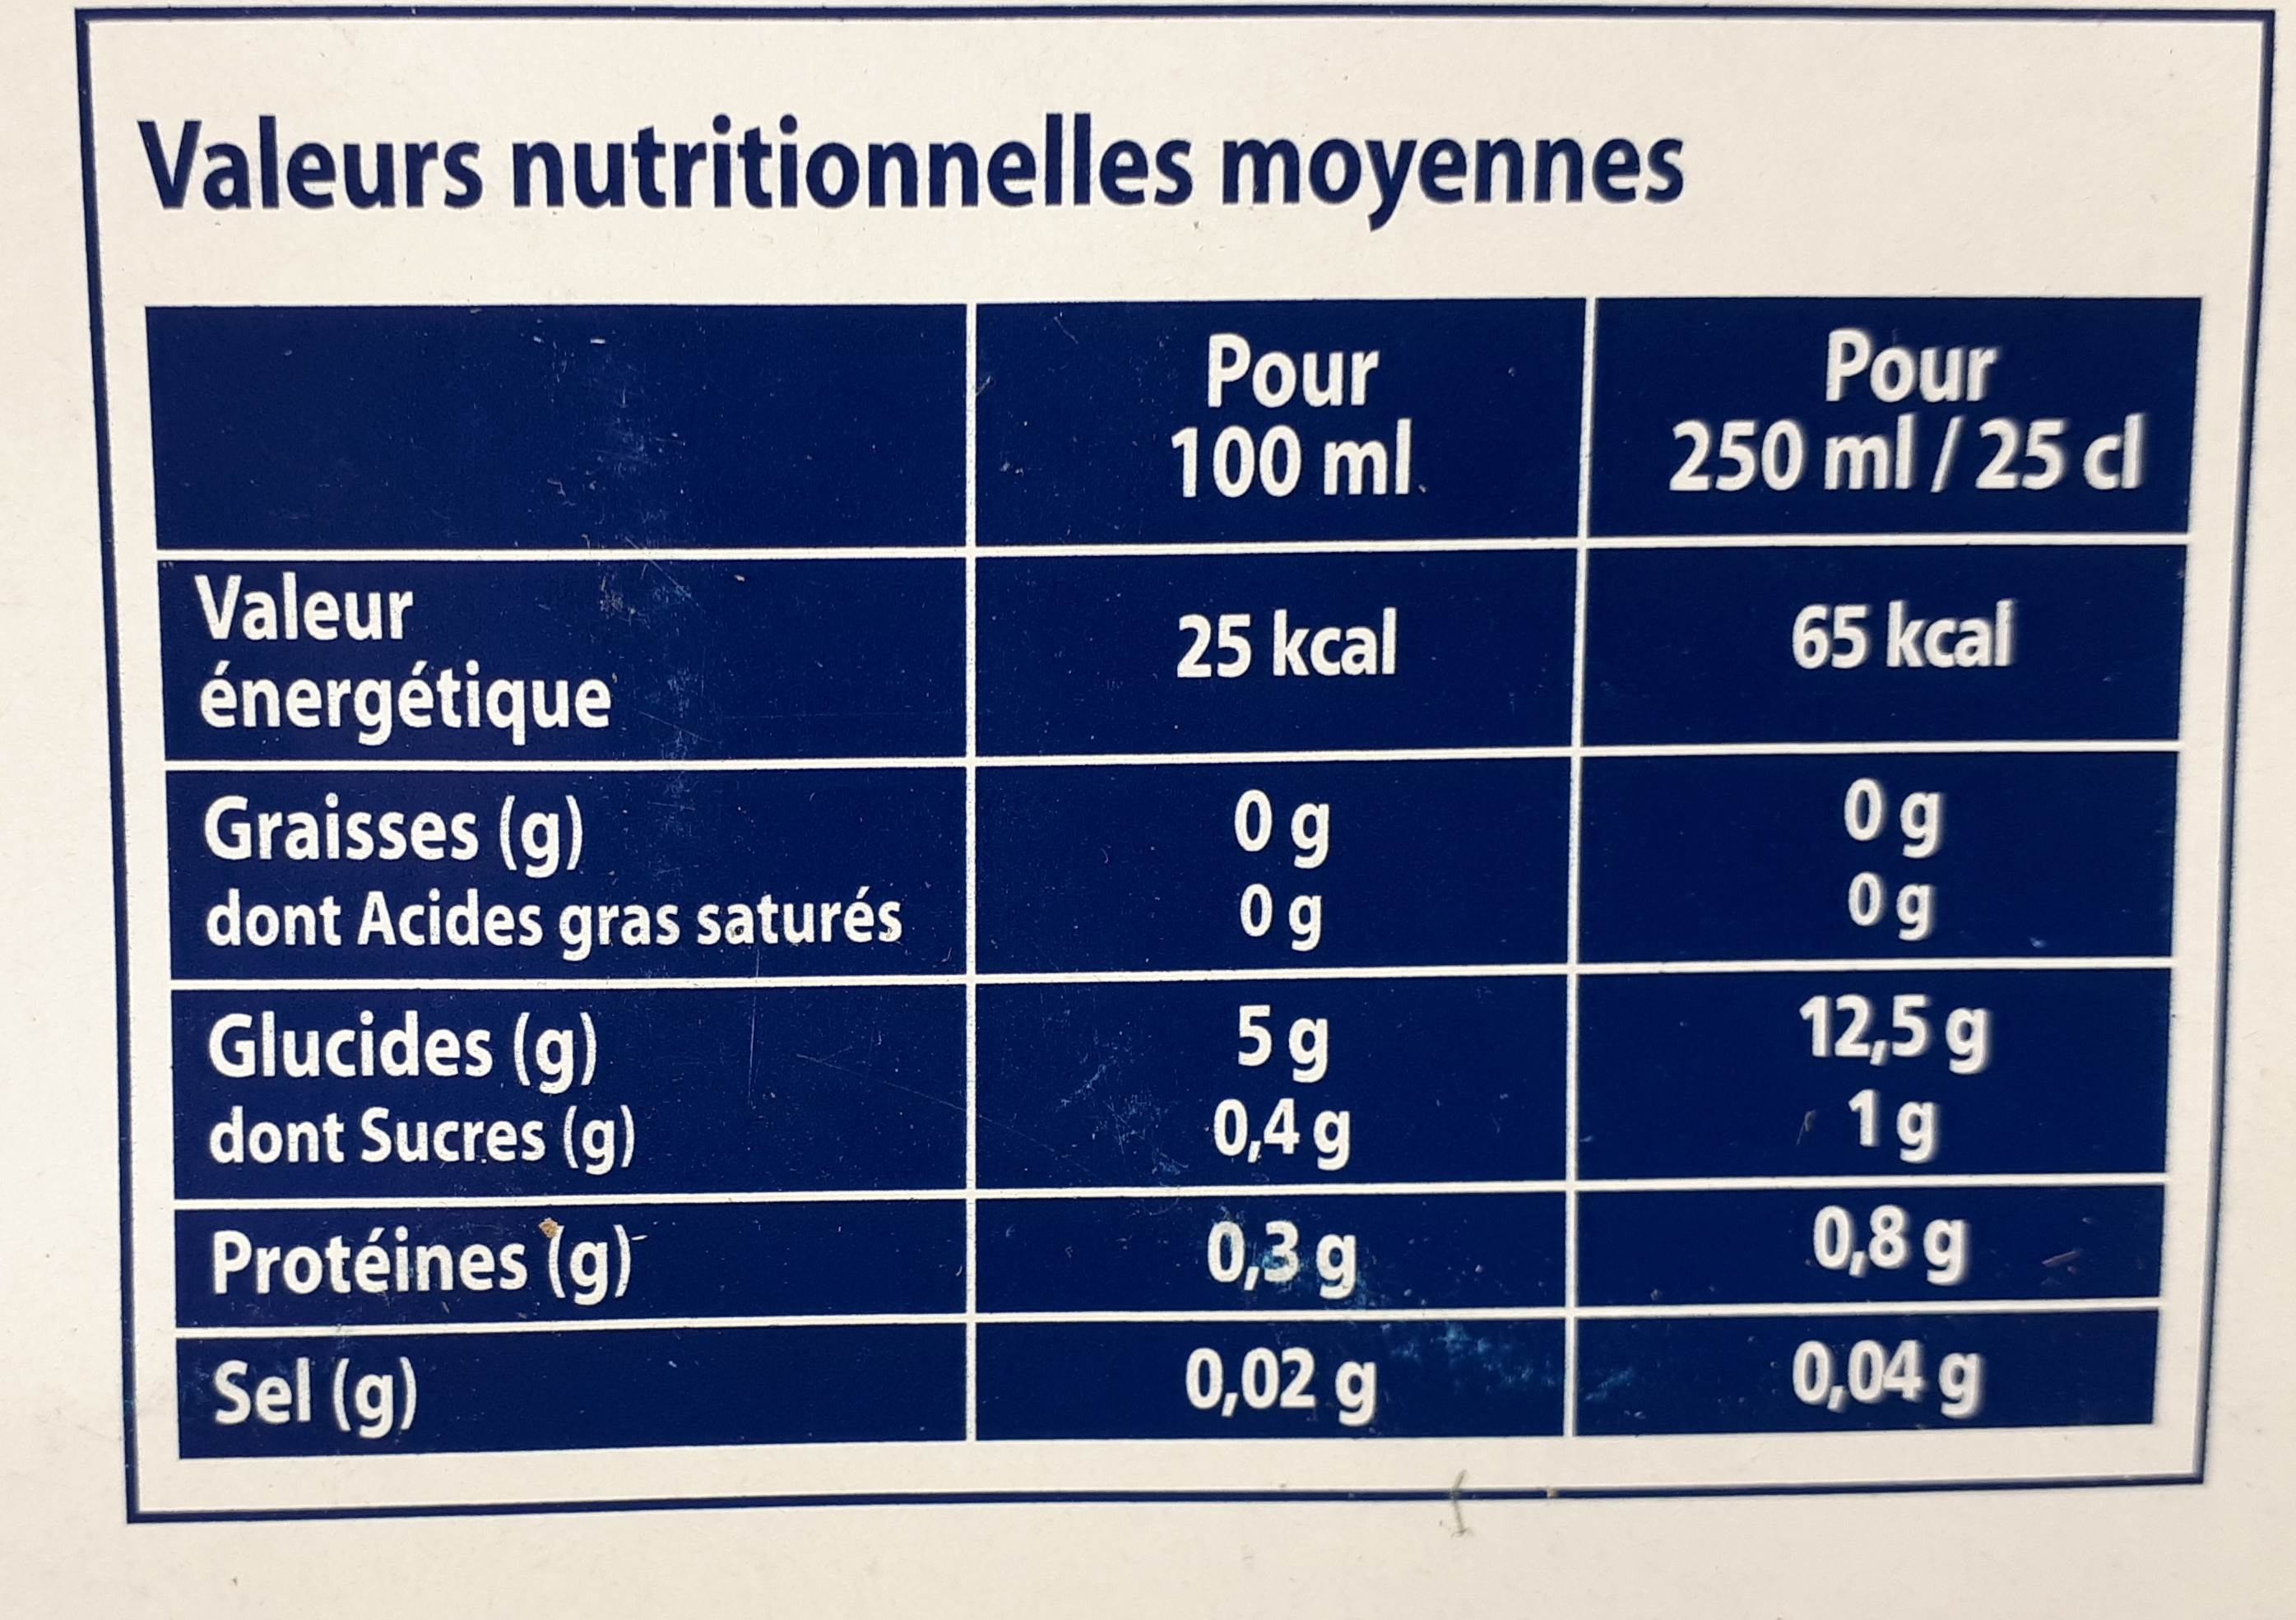column: (188, 565, 908, 1439), (1658, 328, 2149, 1424), (1160, 331, 1413, 1434)
table: (138, 288, 2193, 1455)
